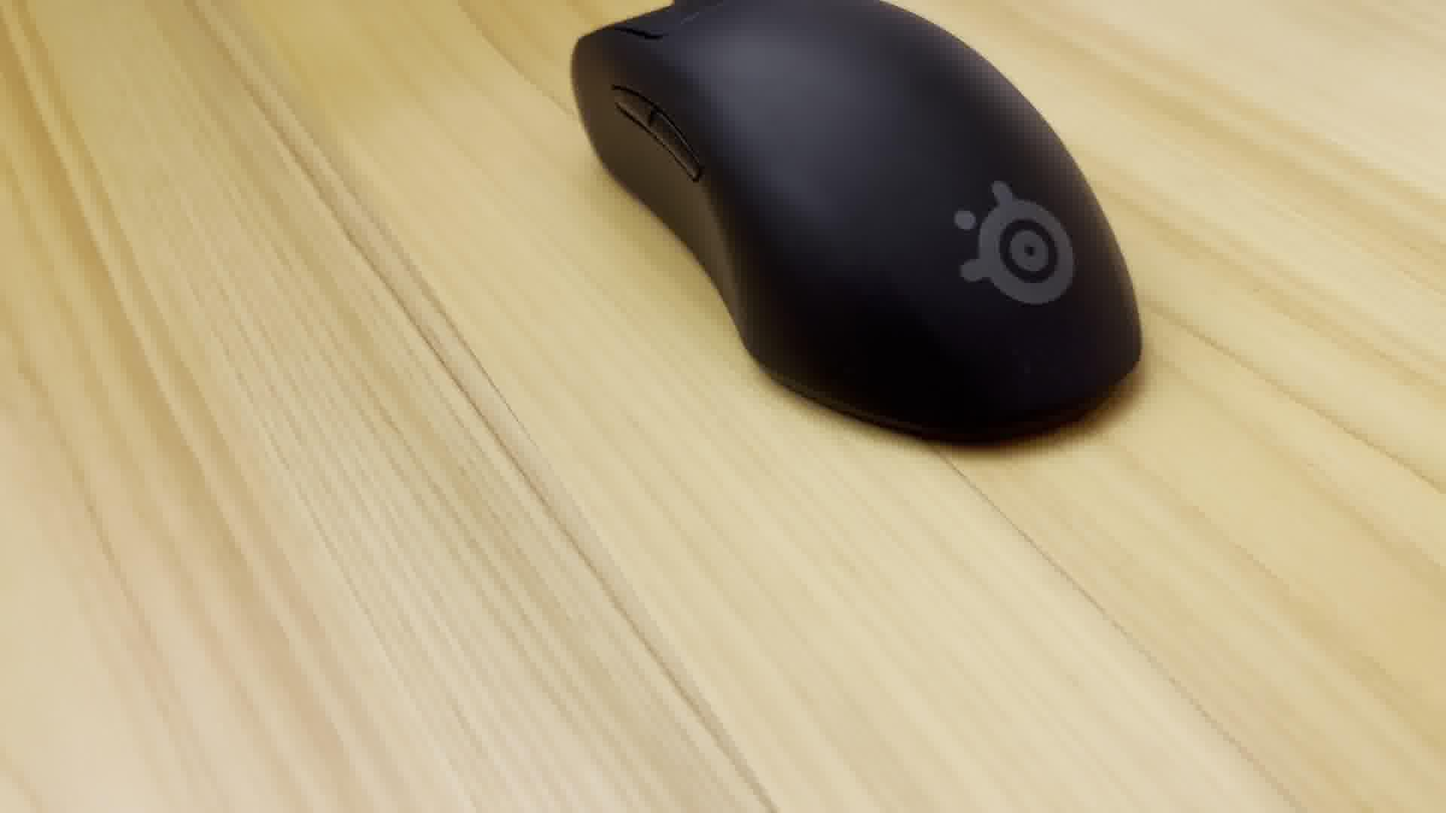mouse: (556, 0, 1165, 462)
